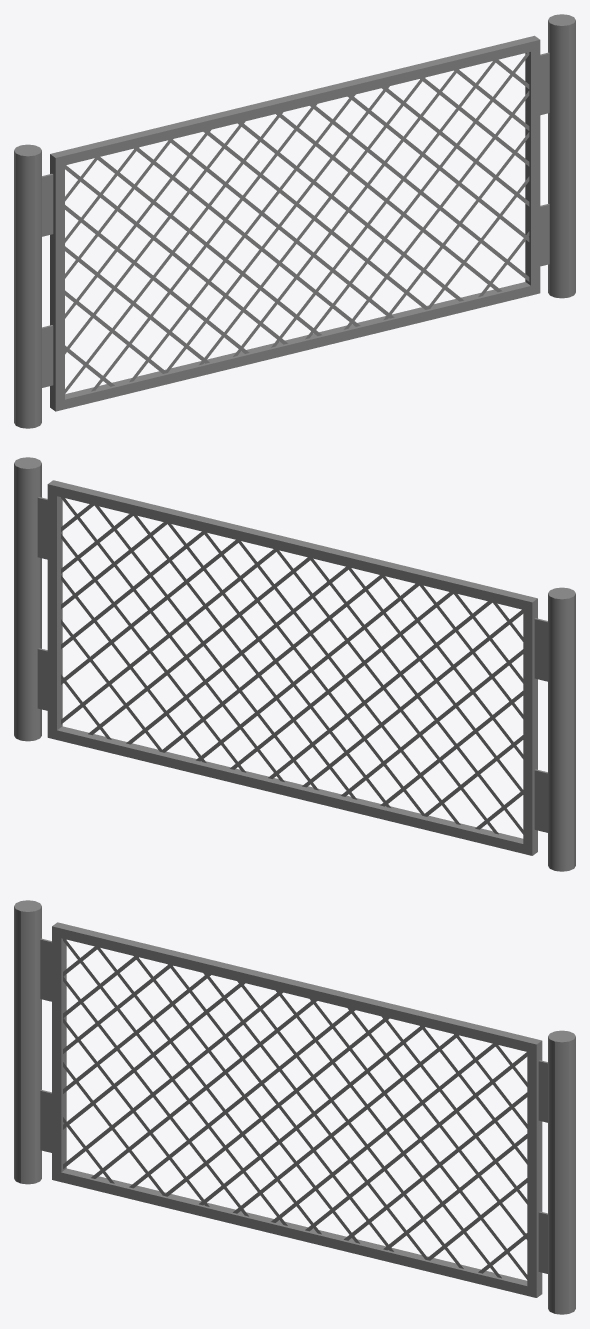
The model's file is FenceMetal4_3.fbx.
3 renders of one model, top to bottom at view 1: azimuth 30°, elevation 25°; view 2: azimuth 150°, elevation 25°; view 3: azimuth 330°, elevation 25°, orthographic.
Parts seen in each view (by area): view 1: Plane.001; view 2: Plane.001; view 3: Plane.001.
Boxes of the visible parts, box(x1,y1,x2,y2) form: Plane.001: box(14, 14, 575, 428); Plane.001: box(14, 457, 575, 871); Plane.001: box(14, 900, 575, 1314).
Bounding box in the file's own units: 461 × 215 × 20.03.
